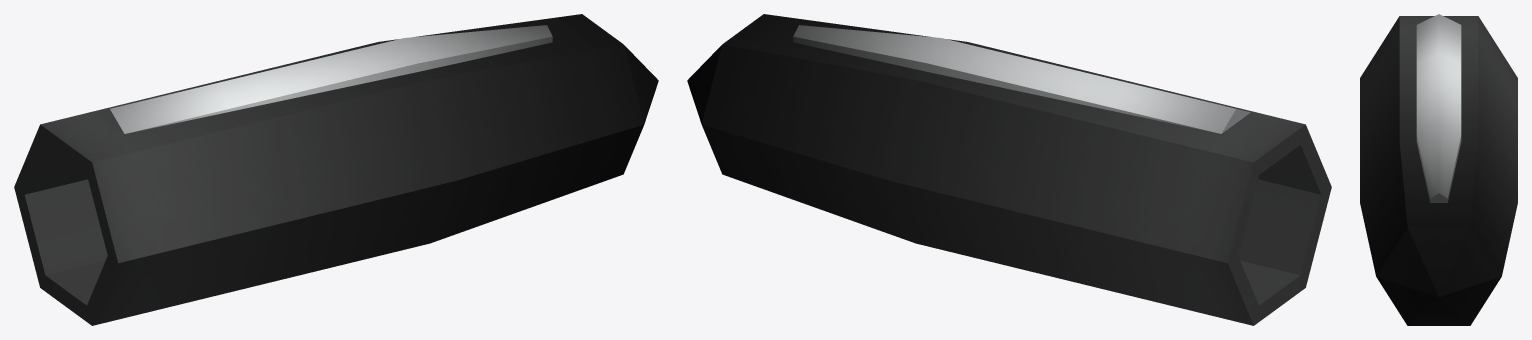
File: PenLid.fbx
The picture shows the model from 3 angles, left to right: view 1: azimuth 30°, elevation 25°; view 2: azimuth 150°, elevation 25°; view 3: azimuth 270°, elevation 25°; orthographic projection. The views are drawn at different scales.
Parts seen in each view (by area): view 1: PenLid; view 2: PenLid; view 3: PenLid.
Part boxes in pixels (<box>): PenLid: <box>14,14,658,325</box>; PenLid: <box>687,14,1331,325</box>; PenLid: <box>1360,14,1517,325</box>.
Bounding box in the file's own units: 3.49 × 1.05 × 1.06.
